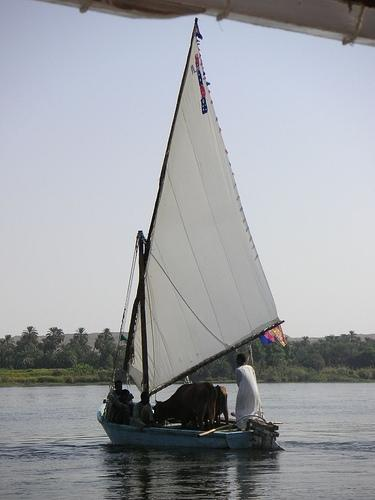Ship: (96, 18, 289, 457)
